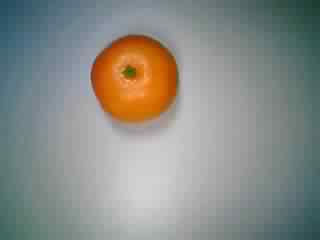orange: (85, 25, 180, 127)
